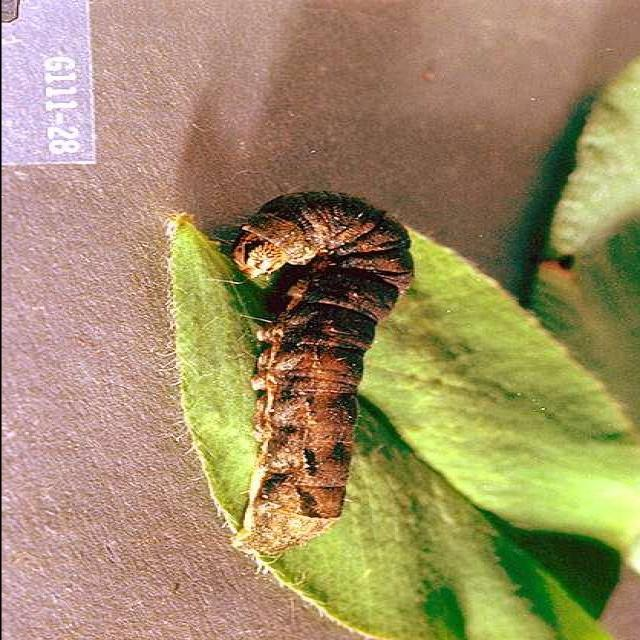army worm: (210, 192, 423, 561)
